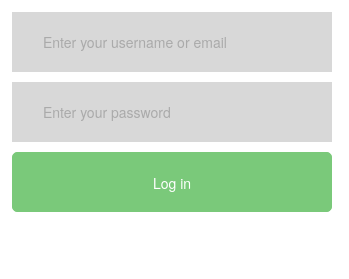
Test: LoginForm › shows the password length message and marks the field invalid
Step 1. Type "short" into the password field labelled "password" → [172, 112], box [12, 82, 332, 142]
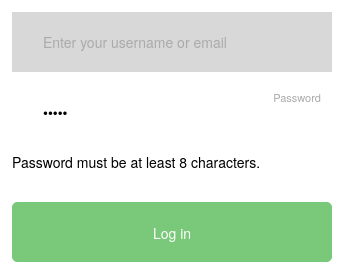
Check: the message reads "Password must be at least 8 characters.", box [12, 152, 260, 172]
